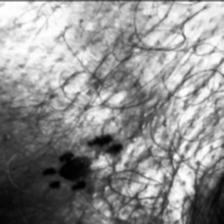Toxin: (38, 127, 125, 203)
